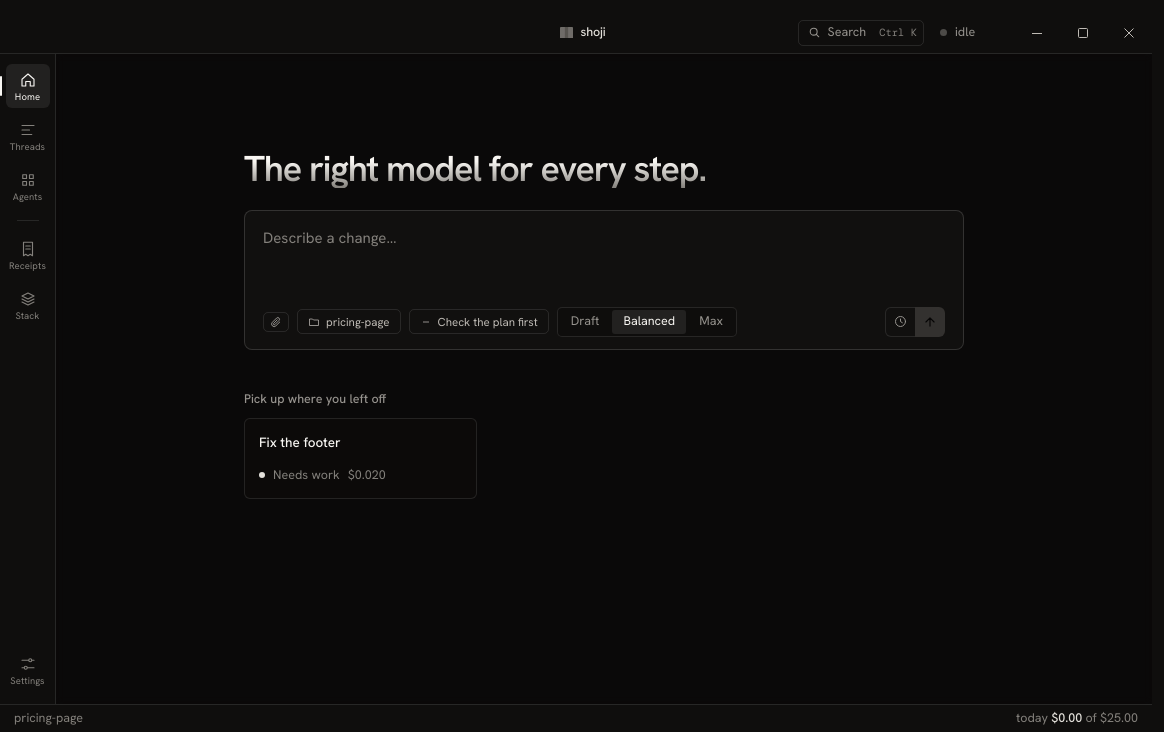
Test case: the thread list › lists the person's threads, newest first, without trials
The image size is (1164, 732).
What coordinates should you click on to do the following:
click the button "Threads"
I would click on:
 (28, 136)
Its box is [6,114,50,158].
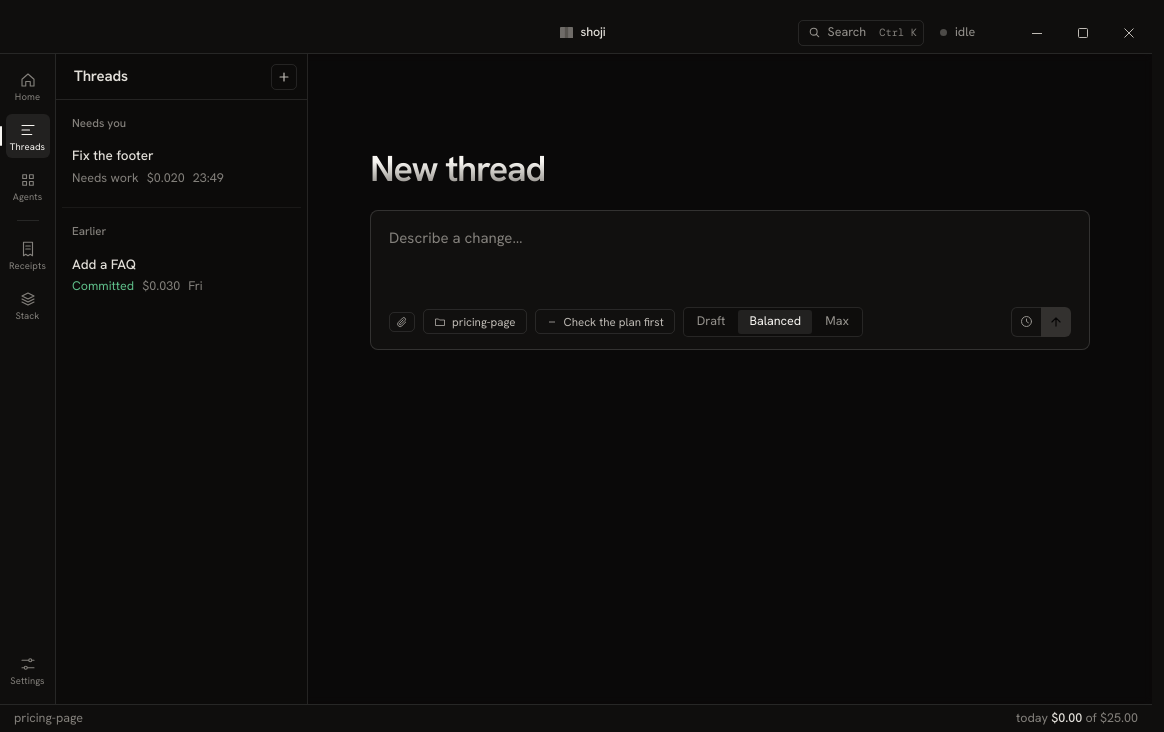
Check: the text box named "Task" is shown, box [389,227,1071,297]
Check: the number of list items is 2, box [62,137,301,195]; [62,246,301,304]
Check: the heading "New thread" is shown, box [370,150,1090,188]
